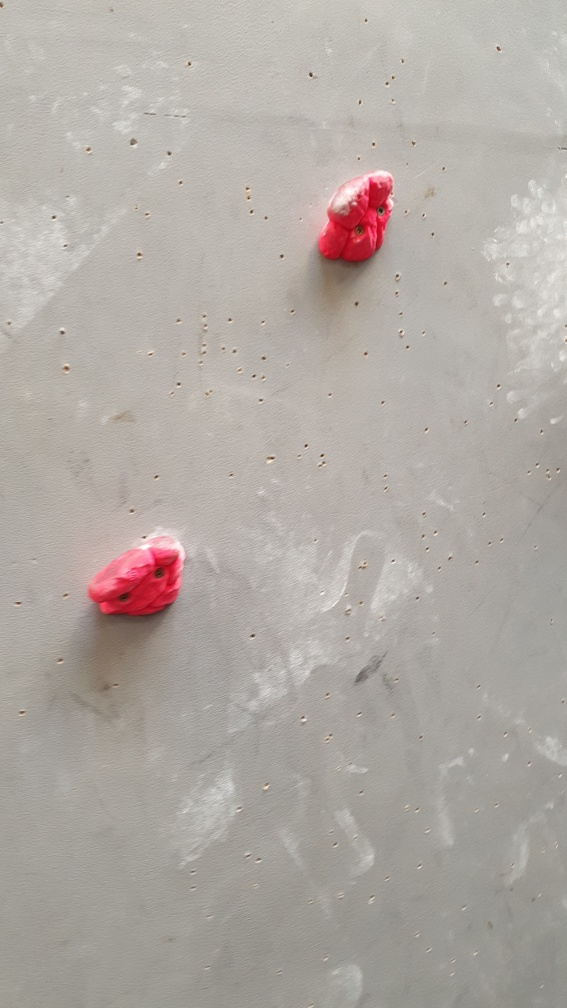Jug: (89, 530, 184, 624), (314, 168, 397, 268)
